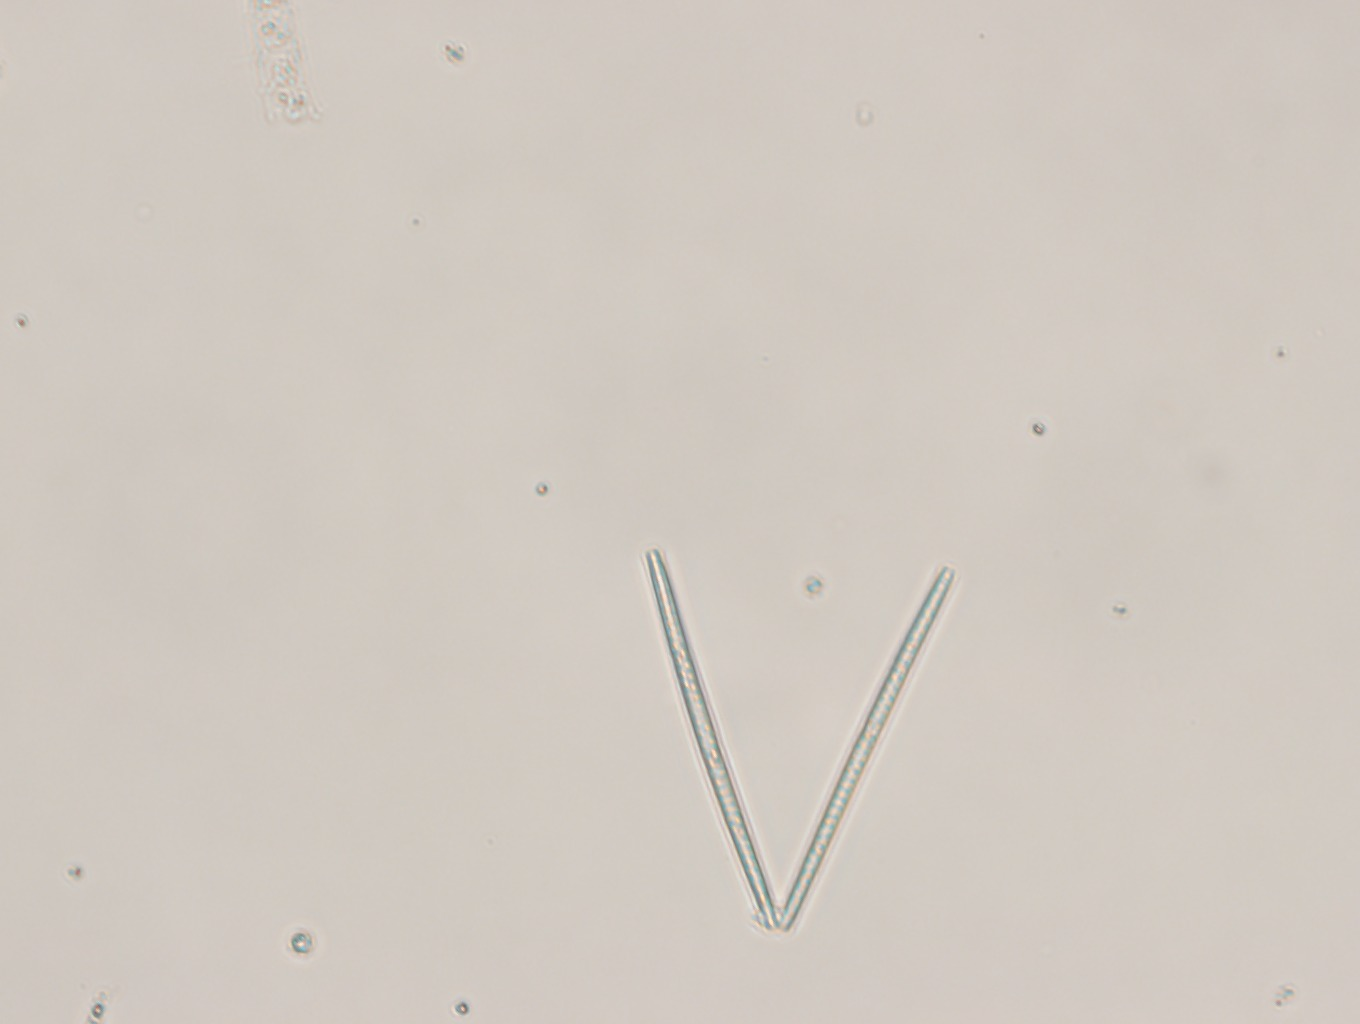thalassionema frauenfeldii: (634, 542, 961, 943)
